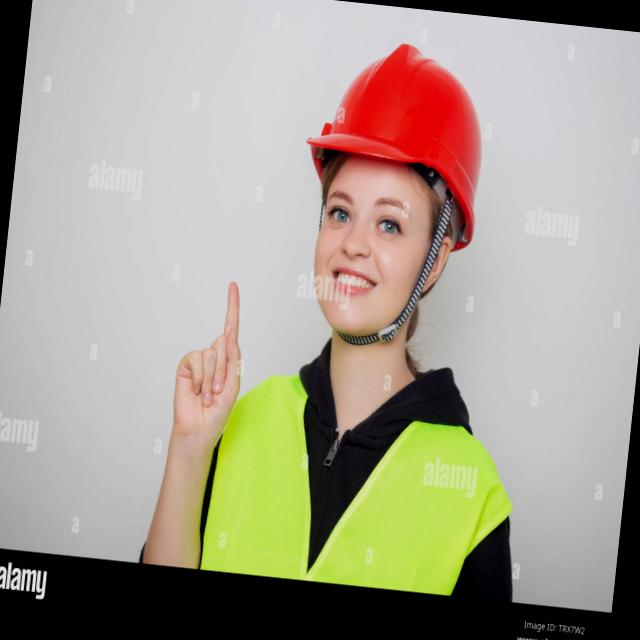helmet: (296, 43, 507, 219)
no-goggles: (304, 159, 461, 262)
vest: (195, 348, 522, 605)
